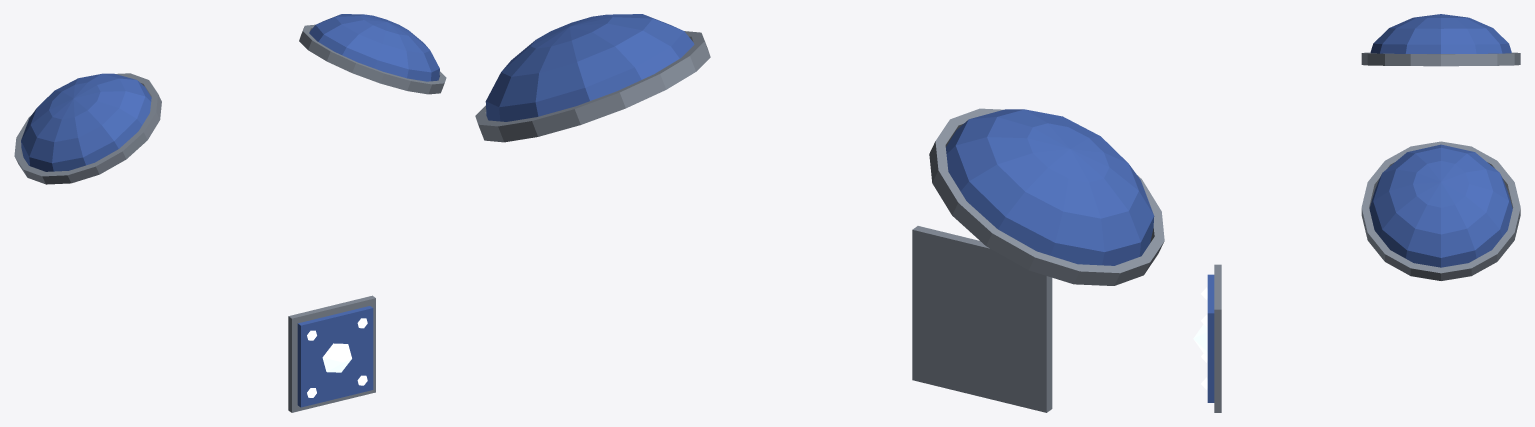
File: armor_lord_chest_rare_orc.glb
The picture shows the model from 3 angles, left to right: view 1: azimuth 30°, elevation 25°; view 2: azimuth 150°, elevation 25°; view 3: azimuth 270°, elevation 25°; orthographic projection. The views are drawn at different scales.
Parts seen in each view (by area): view 1: armor_lord_chest_rare_orc__clavicle_r, armor_lord_chest_rare_orc__spine_03, armor_lord_chest_rare_orc__clavicle_l; view 2: armor_lord_chest_rare_orc__clavicle_r, armor_lord_chest_rare_orc__spine_03, armor_lord_chest_rare_orc__clavicle_l; view 3: armor_lord_chest_rare_orc__clavicle_l, armor_lord_chest_rare_orc__clavicle_r, armor_lord_chest_rare_orc__spine_03.
Boxes of the visible parts, left/top/right/bottom form: armor_lord_chest_rare_orc__clavicle_r: left=14, top=73, right=161, bottom=184; armor_lord_chest_rare_orc__spine_03: left=288, top=295, right=375, bottom=412; armor_lord_chest_rare_orc__clavicle_l: left=299, top=14, right=446, bottom=94; armor_lord_chest_rare_orc__clavicle_r: left=929, top=108, right=1164, bottom=285; armor_lord_chest_rare_orc__spine_03: left=912, top=226, right=1052, bottom=412; armor_lord_chest_rare_orc__clavicle_l: left=475, top=14, right=710, bottom=142; armor_lord_chest_rare_orc__clavicle_l: left=1361, top=141, right=1520, bottom=280; armor_lord_chest_rare_orc__clavicle_r: left=1361, top=14, right=1520, bottom=66; armor_lord_chest_rare_orc__spine_03: left=1193, top=264, right=1221, bottom=412.
Size of the model in its own units: 69.81 by 44.42 by 43.62.
